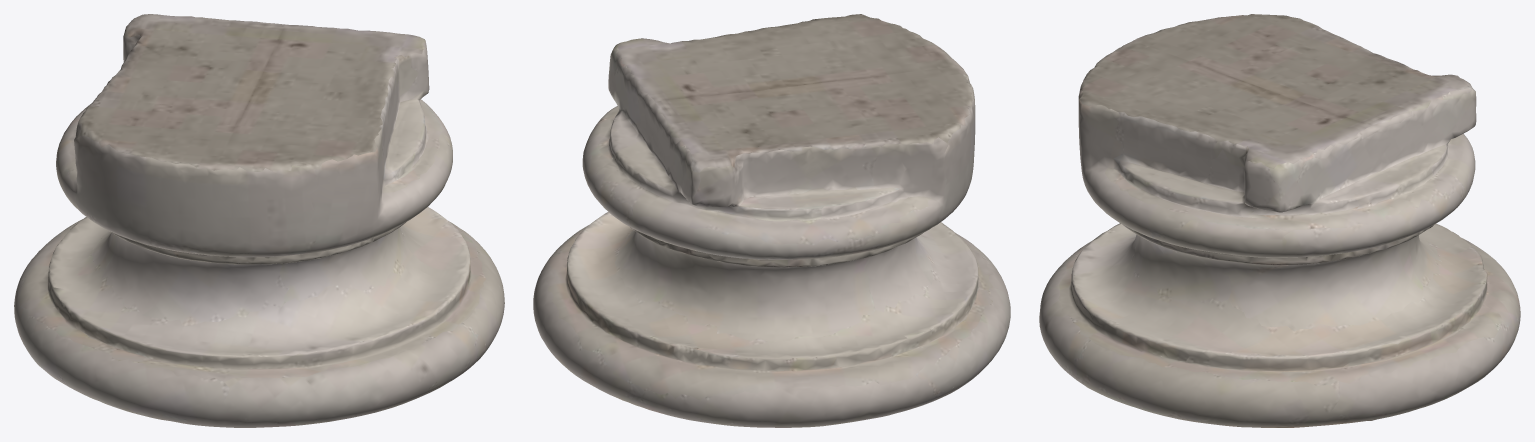
3 renders of one model, left to right at view 1: azimuth 30°, elevation 25°; view 2: azimuth 150°, elevation 25°; view 3: azimuth 270°, elevation 25°, orthographic. The views are drawn at different scales.
Bounding box in the file's own units: 227 × 134 × 227.
Materials: 1 (1 with a texture image).
